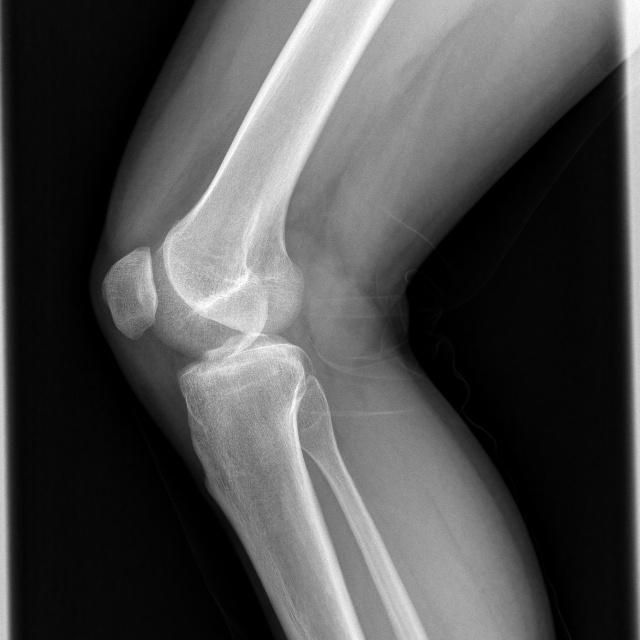Knee: (98, 241, 309, 415)
